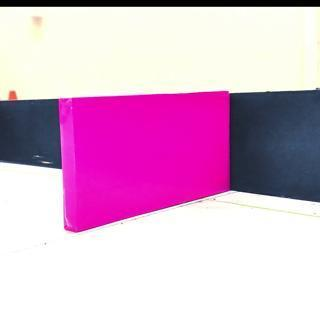xparking: (58, 100, 230, 220)
